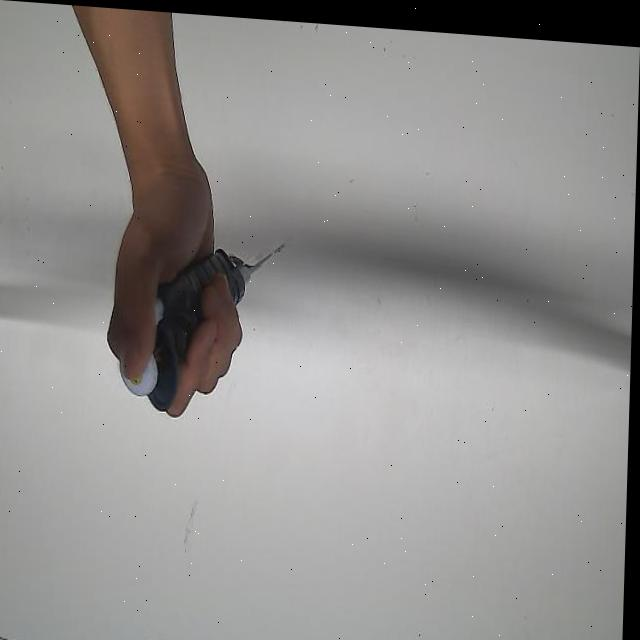Single Channel Pipettor: (117, 223, 295, 422)
